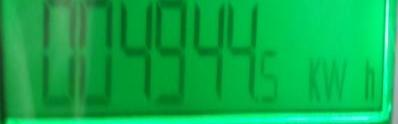.: (304, 56, 381, 107)
0: (254, 96, 261, 103)
1: (75, 0, 115, 108), (39, 0, 79, 107)
5: (117, 1, 155, 100), (192, 0, 226, 102), (226, 1, 260, 98)
6: (259, 48, 282, 105)
:: (151, 0, 190, 106)
